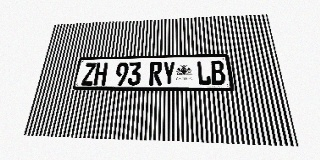3: (127, 62, 141, 85)
9: (115, 62, 129, 85)
B: (210, 60, 226, 85)
H: (93, 62, 108, 85)
L: (196, 61, 211, 85)
R: (149, 61, 162, 85)
Y: (162, 61, 175, 85)
Z: (81, 63, 96, 85)
